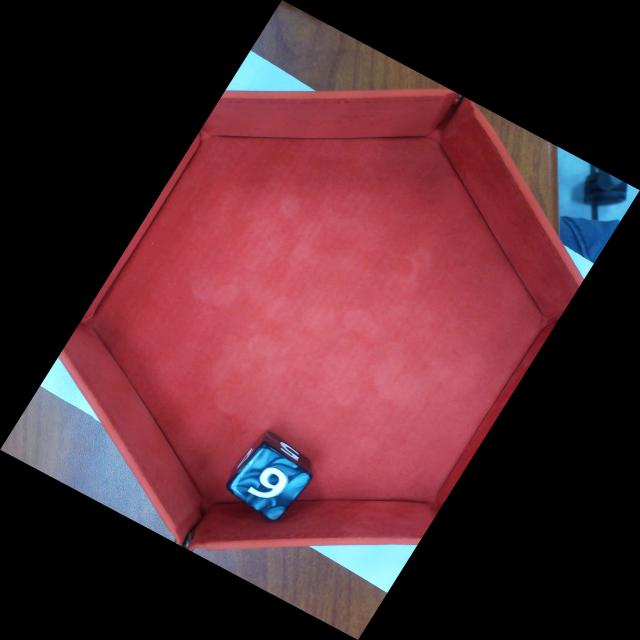dice: (225, 440, 313, 522)
